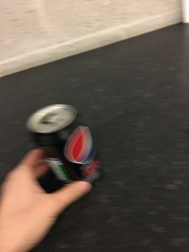can_black: (23, 104, 112, 202)
